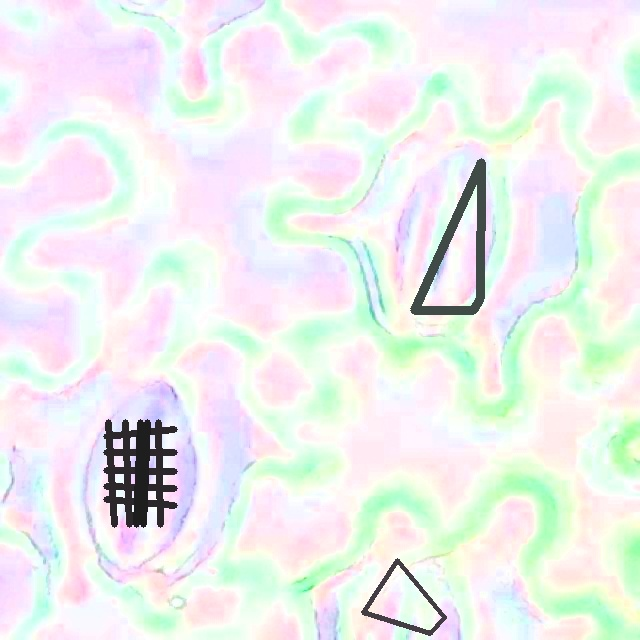open: (411, 158, 484, 313), (104, 419, 177, 527), (361, 558, 446, 635)
